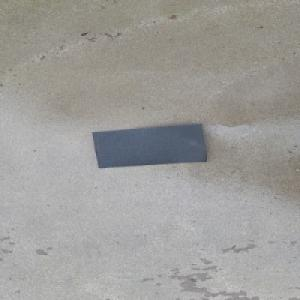PaintChip: (91, 122, 208, 168)
